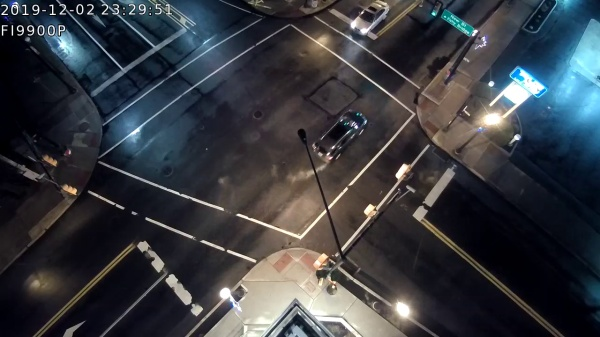car: (311, 109, 366, 168), (352, 1, 386, 40)
